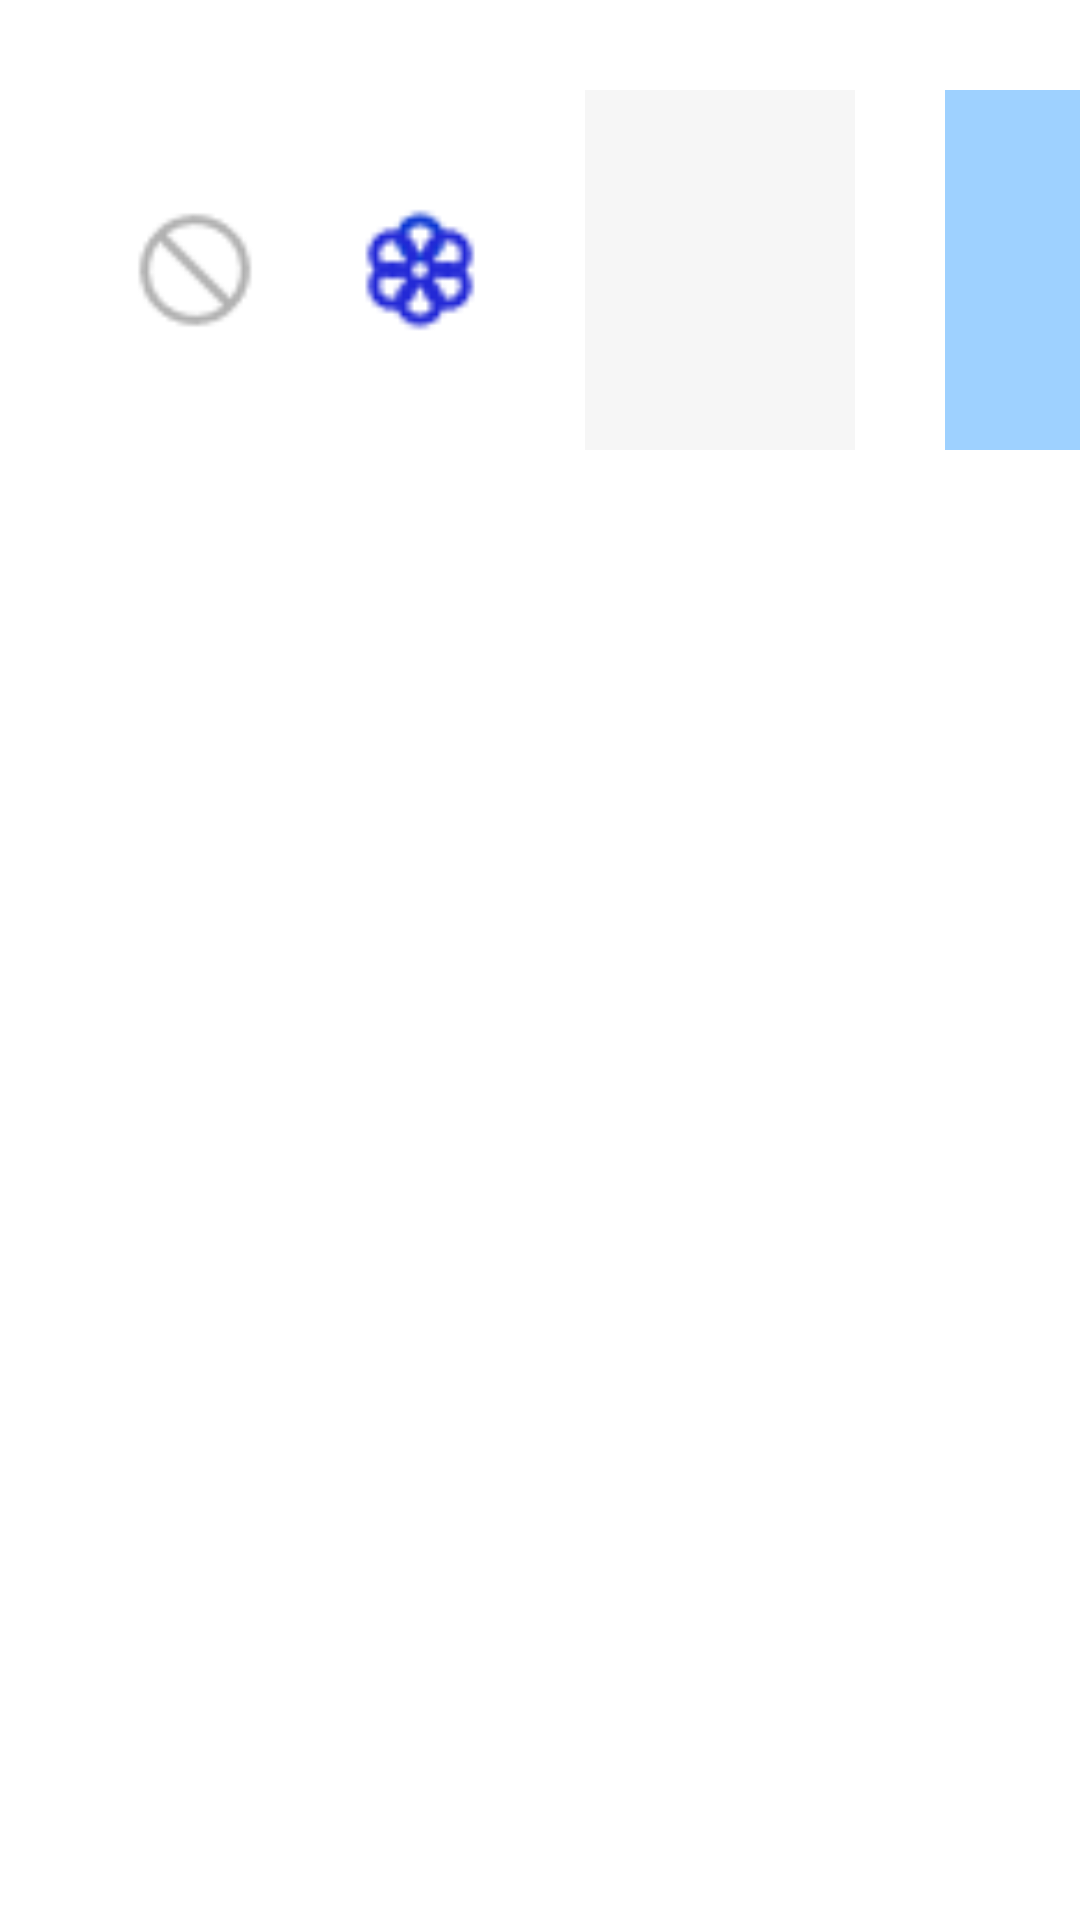

Named icons in this screenshot (1080x1920) and their bounding boxes, (x1, y1, x2, y2):
none: (139, 214, 251, 326)
